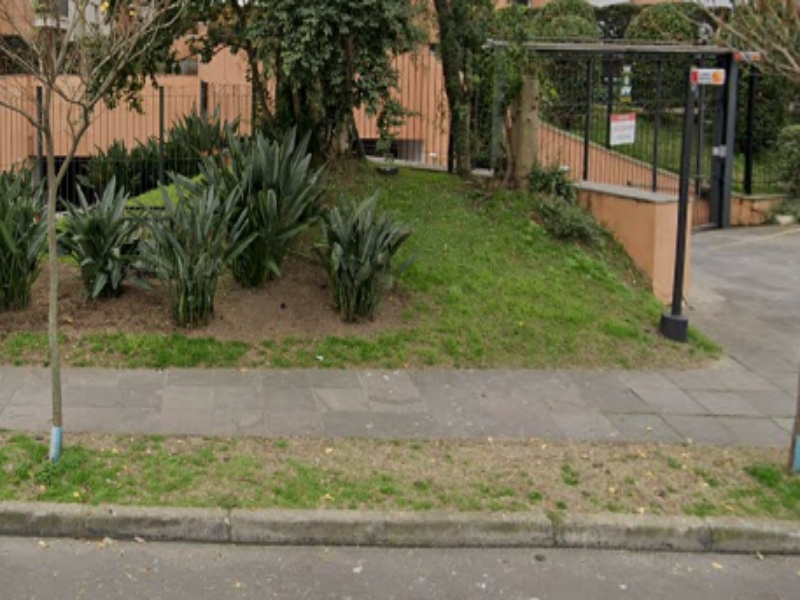v78: (1, 458, 773, 591)
